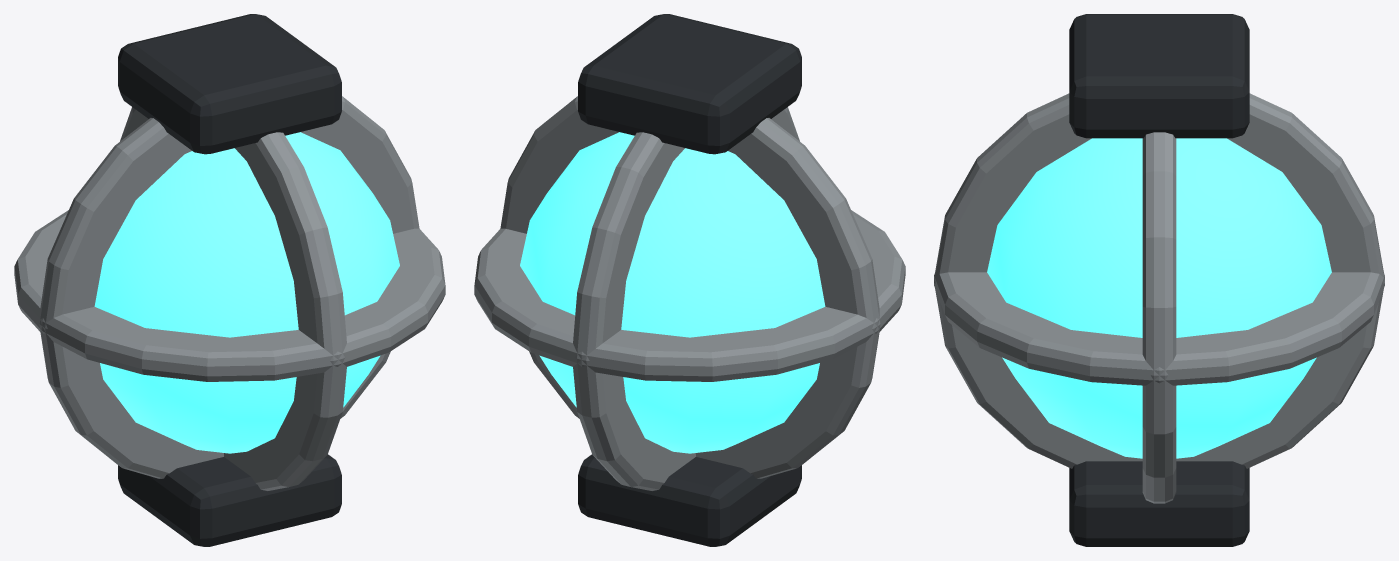
Rendered from nav_core.glb.
3 views of the same model, side by side, from view 1: azimuth 30°, elevation 25°; view 2: azimuth 150°, elevation 25°; view 3: azimuth 270°, elevation 25° (orthographic). The views are drawn at different scales.
Parts seen in each view (by area): view 1: core, ring1, ring0, cap1, ring2, cap-1; view 2: core, ring1, ring0, cap1, ring2, cap-1; view 3: core, ring2, ring0, cap1, cap-1, ring1.
Boxes of the visible parts, box(x1,y1,x2,y2) form: core: box(94, 132, 399, 453); ring1: box(39, 96, 419, 478); ring0: box(14, 210, 445, 381); cap1: box(118, 14, 341, 154); ring2: box(120, 107, 346, 490); cap-1: box(118, 454, 341, 546); core: box(520, 132, 825, 453); ring1: box(500, 96, 880, 478); ring0: box(474, 210, 905, 381); cap1: box(578, 14, 801, 154); ring2: box(573, 107, 799, 490); cap-1: box(578, 454, 801, 546); core: box(987, 138, 1331, 458); ring2: box(934, 93, 1384, 468); ring0: box(934, 272, 1384, 385); cap1: box(1069, 14, 1249, 138); cap-1: box(1069, 461, 1249, 546); ring1: box(1142, 132, 1176, 503).
Bounding box in the file's own units: 0.4 × 0.46 × 0.4.
